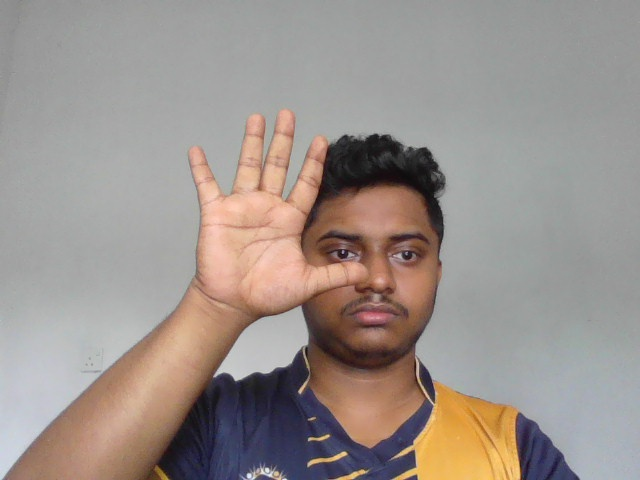Hello: (186, 108, 369, 320)
